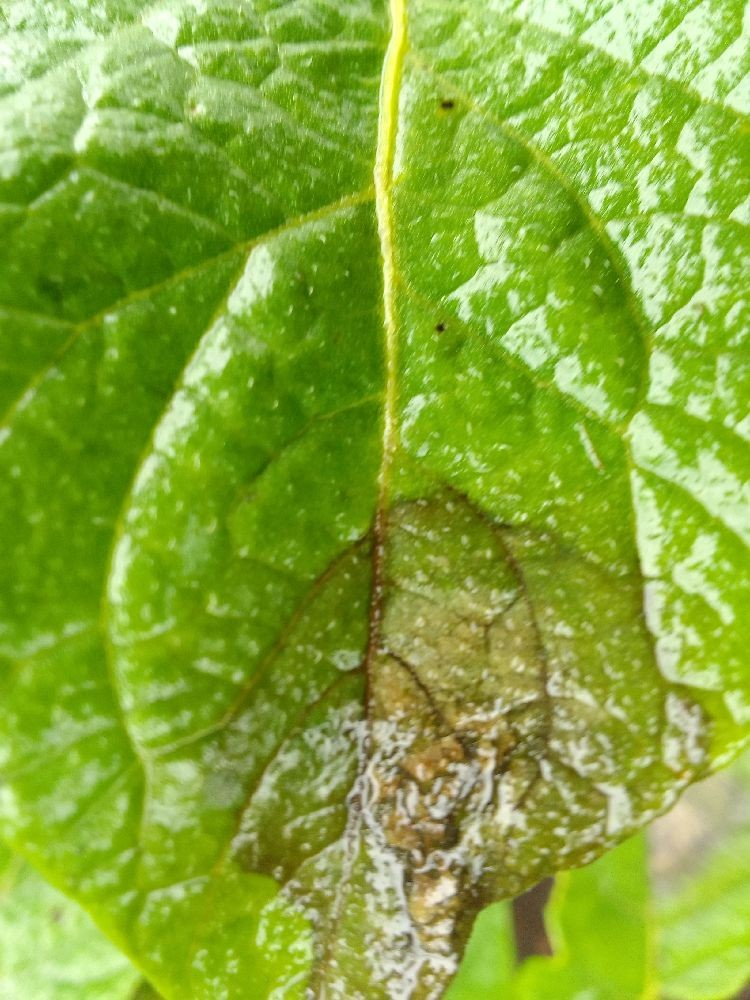late_blight: (331, 484, 625, 999), (642, 784, 724, 890)
